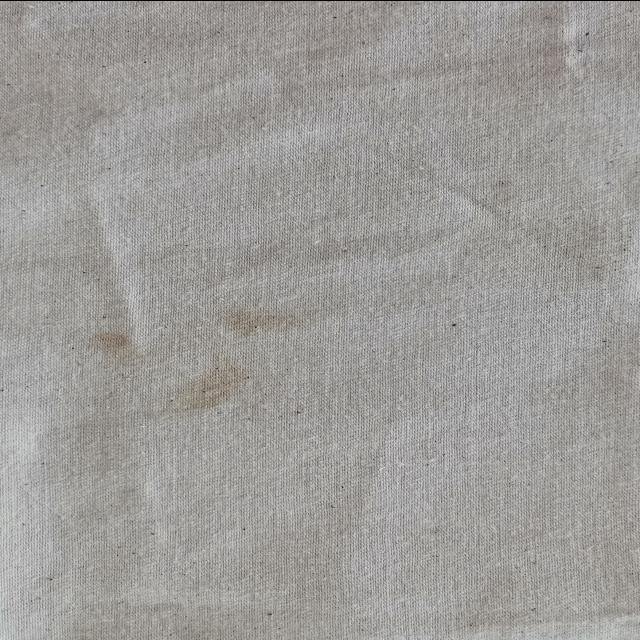taaaches: (146, 362, 284, 418), (210, 302, 320, 334), (69, 320, 145, 350)
